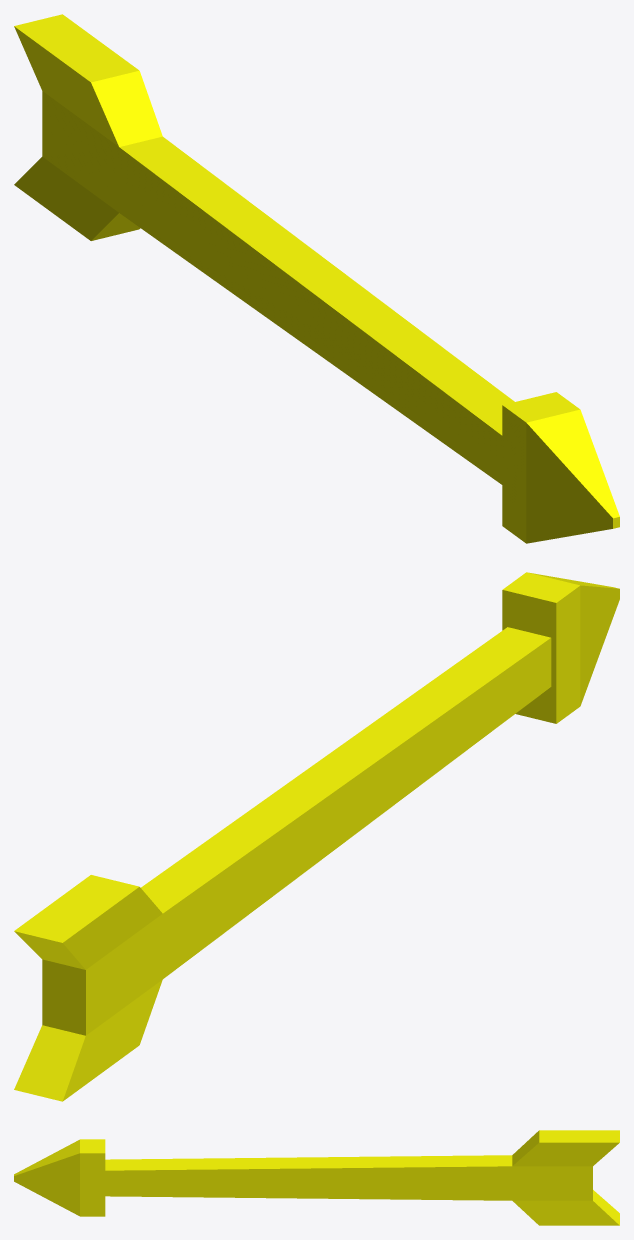
File: Army_Arrow_Red.glb
3 renders of one model, top to bottom at view 1: azimuth 30°, elevation 25°; view 2: azimuth 150°, elevation 25°; view 3: azimuth 270°, elevation 25°, orthographic. The views are drawn at different scales.
Parts seen in each view (by area): view 1: Arrow Red; view 2: Arrow Red; view 3: Arrow Red.
Part boxes in pixels (x1=…): Arrow Red: x1=14, y1=14, x2=619, y2=543; Arrow Red: x1=14, y1=572, x2=619, y2=1101; Arrow Red: x1=14, y1=1130, x2=619, y2=1225.
Size of the model in its own units: 0.0313 by 0.0877 by 0.5793.
1 material, 1 textured.
